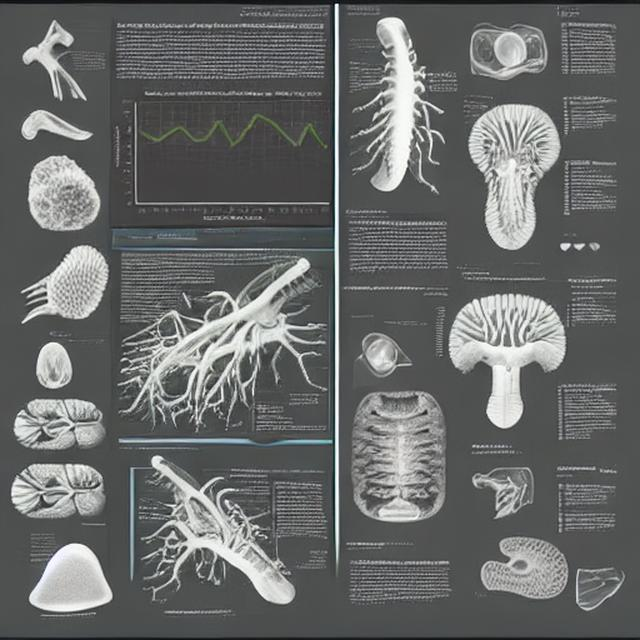Graph: (109, 85, 335, 227)
